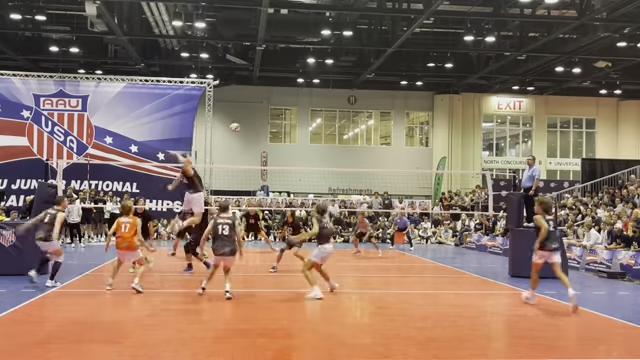Attack: (162, 153, 207, 238)
Player: (522, 197, 578, 312), (17, 196, 67, 287), (105, 201, 154, 293), (199, 200, 243, 299), (300, 203, 337, 299), (183, 200, 213, 272), (270, 210, 304, 272), (241, 202, 275, 250), (353, 211, 381, 256), (167, 210, 190, 255)
ball: (228, 122, 240, 132)
